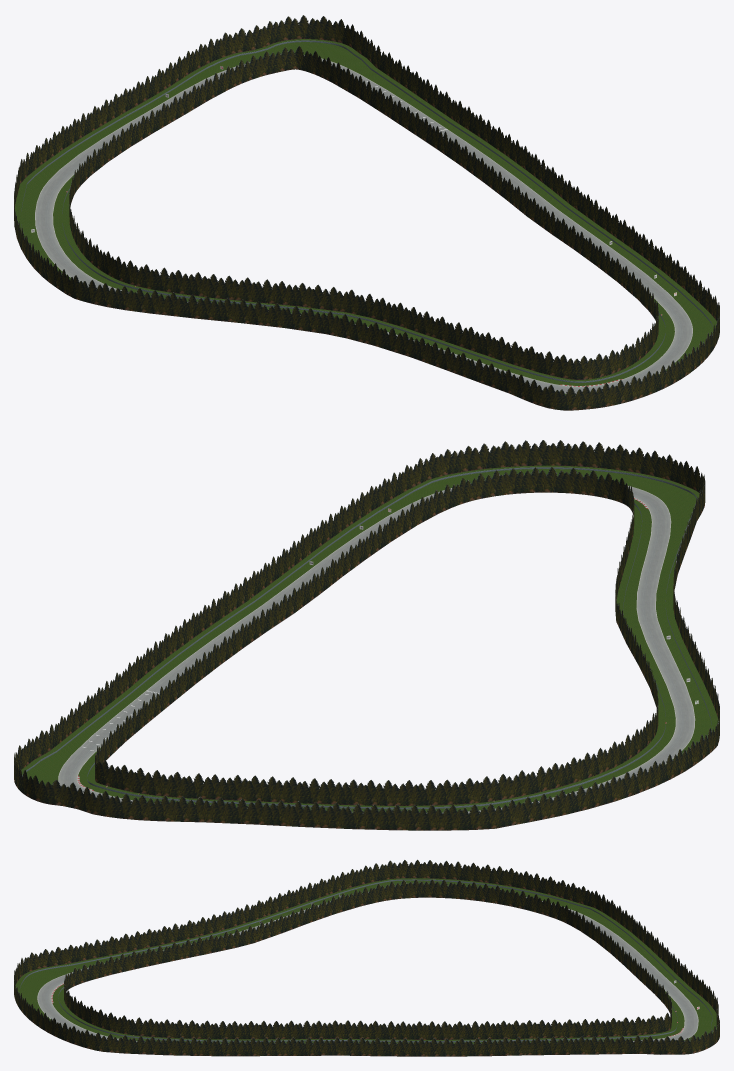
The picture shows the model from 3 angles, top to bottom: view 1: azimuth 30°, elevation 25°; view 2: azimuth 150°, elevation 25°; view 3: azimuth 270°, elevation 25°; orthographic projection. The views are drawn at different scales.
Visible parts, largest first — view 1: Road; view 2: Road; view 3: Road.
Part boxes in pixels (x1,y1,x2,y2): Road: (14,15,719,410); Road: (14,440,719,830); Road: (14,859,719,1056).
Size of the model in its own units: 301 by 19.29 by 503.
